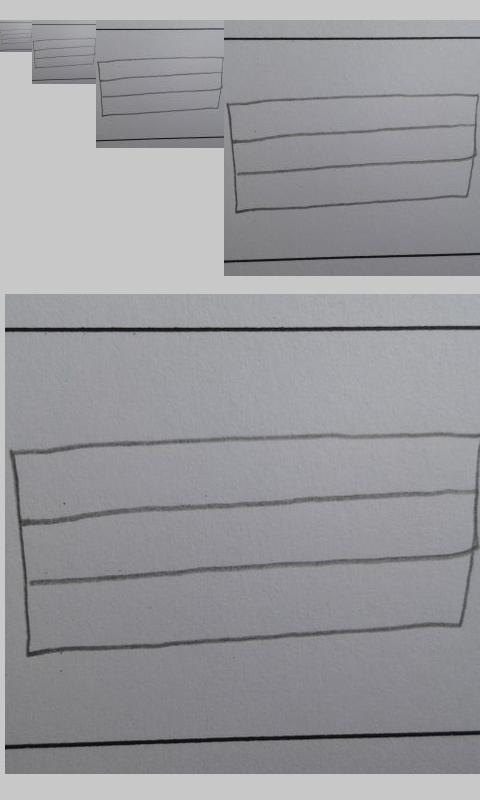list_view: (7, 429, 480, 660), (225, 91, 480, 216), (96, 56, 223, 118), (33, 37, 97, 69), (1, 28, 32, 45)
